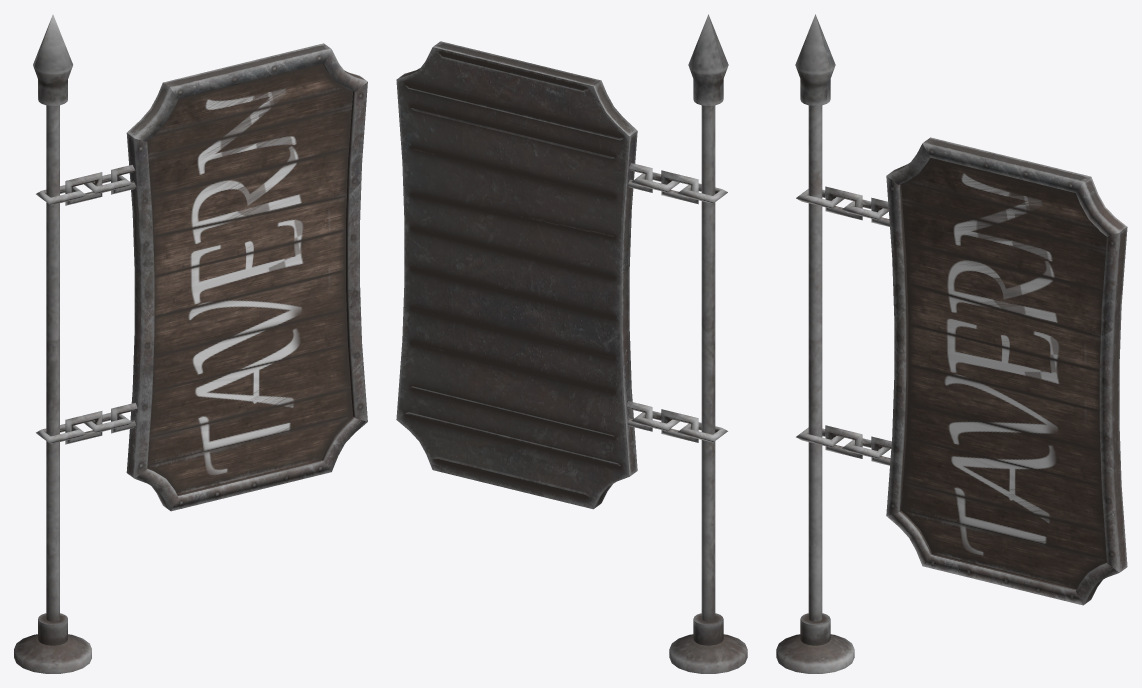
The model's file is SM_Sign01.FBX.
The picture shows the model from 3 angles, left to right: view 1: azimuth 30°, elevation 25°; view 2: azimuth 150°, elevation 25°; view 3: azimuth 330°, elevation 25°; orthographic projection.
Visible parts, largest first — view 1: SM_Sign01; view 2: SM_Sign01; view 3: SM_Sign01.
Part boxes in pixels (x1,y1,x2,y2): SM_Sign01: [14, 14, 367, 673]; SM_Sign01: [396, 14, 747, 673]; SM_Sign01: [776, 14, 1127, 673].
Bounding box in the file's own units: 50.31 × 9.93 × 90.29.
